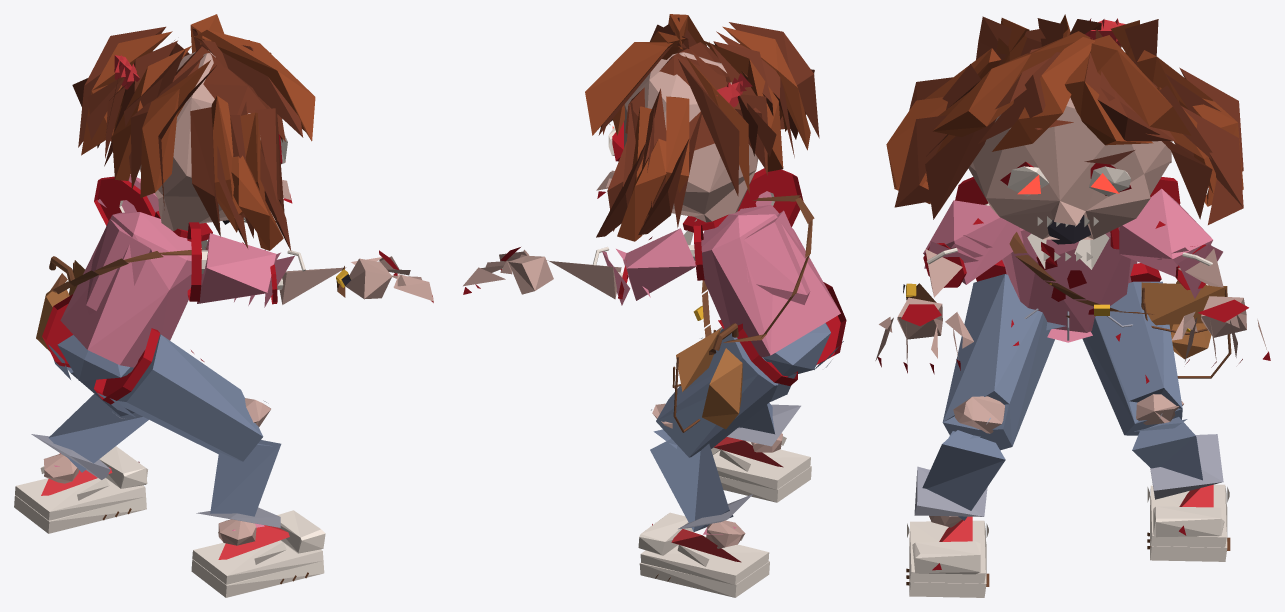
File: inf.suburban-mom.lod2.glb
The picture shows the model from 3 angles, left to right: view 1: azimuth 30°, elevation 25°; view 2: azimuth 150°, elevation 25°; view 3: azimuth 270°, elevation 25°; orthographic projection. The views are drawn at different scales.
Visible parts, largest first — view 1: head, torso, legR, footR, footL, armR, shinL, shinR, hip, handR, stump_armL, stump_legR (+3 smaller); view 2: head, torso, footL, hip, legL, footR, shinL, armL, handL, stump_armR, shinR, foreArmL (+3 smaller); view 3: head, legR, torso, legL, footR, footL, shinR, armL, shinL, armR, hip, handR (+5 smaller).
Boxes of the visible parts, <box> form: head: <box>72,14,315,251</box>; torso: <box>50,212,207,367</box>; legR: <box>97,334,270,461</box>; footR: <box>191,510,325,597</box>; footL: <box>14,446,147,533</box>; armR: <box>197,233,305,307</box>; shinL: <box>31,394,148,479</box>; shinR: <box>196,440,281,527</box>; hip: <box>36,256,133,380</box>; handR: <box>345,250,433,302</box>; stump_armL: <box>94,176,155,225</box>; stump_legR: <box>94,328,159,404</box>; head: <box>585,14,819,241</box>; torso: <box>684,195,840,357</box>; footL: <box>638,512,769,597</box>; hip: <box>672,323,830,432</box>; legL: <box>651,333,796,457</box>; footR: <box>711,433,811,502</box>; shinL: <box>650,429,752,531</box>; armL: <box>592,228,696,305</box>; handL: <box>463,247,553,294</box>; stump_armR: <box>739,168,803,227</box>; shinR: <box>727,402,800,446</box>; foreArmL: <box>549,261,621,299</box>; head: <box>886,14,1243,261</box>; legR: <box>942,274,1054,450</box>; torso: <box>1002,227,1154,342</box>; legL: <box>1082,281,1183,435</box>; footR: <box>906,516,989,597</box>; footL: <box>1147,484,1230,561</box>; shinR: <box>914,430,1005,520</box>; armL: <box>1119,188,1222,298</box>; shinL: <box>1132,417,1223,499</box>; armR: <box>923,200,1023,284</box>; hip: <box>1024,280,1231,378</box>; handR: <box>875,297,973,374</box>.
Size of the model in its own units: 1.06 by 1.78 by 1.17.
